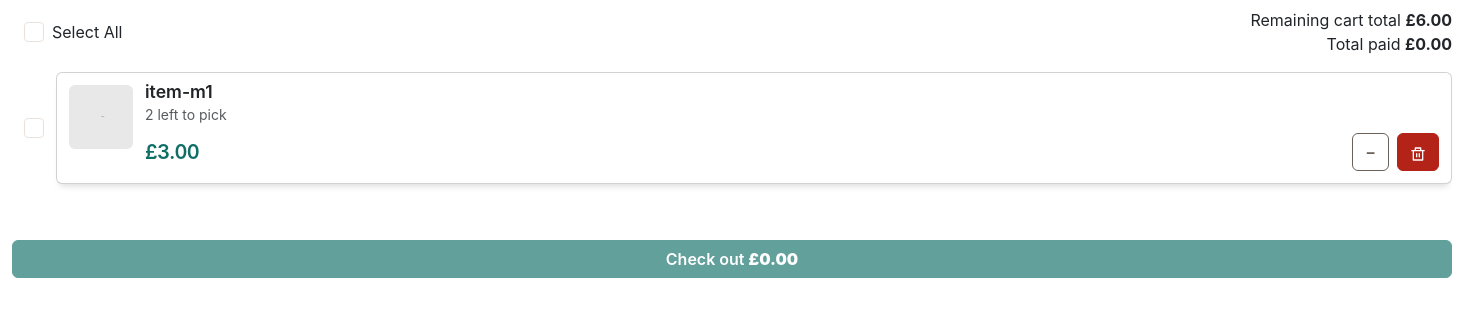
Scenario: changing the table's order from the cart › the bin says how many it kept for the diners paying for them
Step 1. Click the button named "Remove item-m1 from the cart" → click(1418, 152), box [1397, 133, 1439, 171]
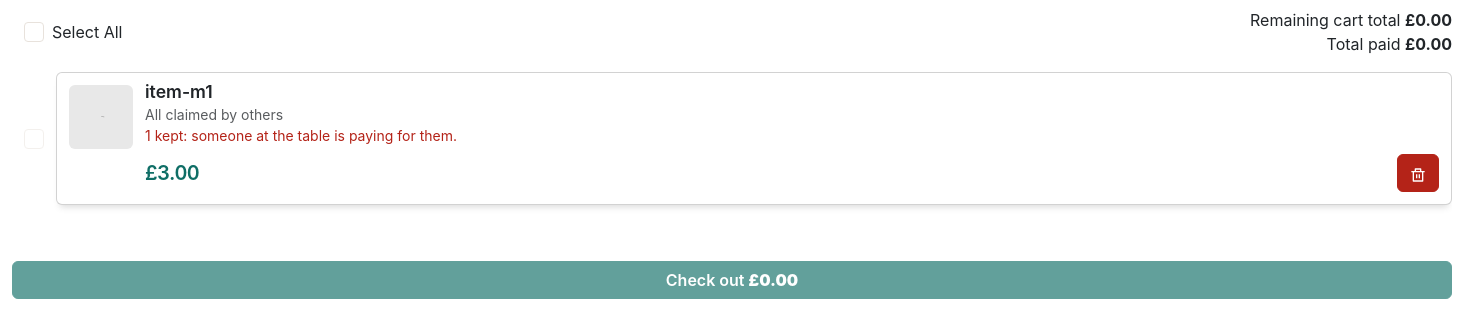
expect the text "1 kept: someone at the table is paying for them." is shown: met, box [145, 127, 457, 144]
